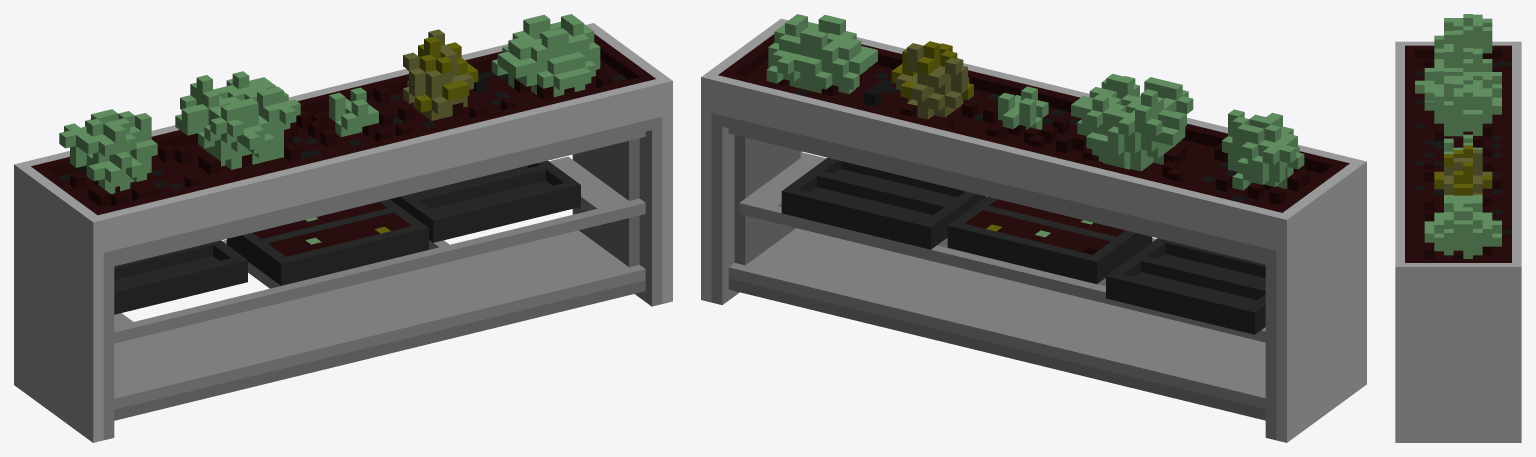
The model's file is Green House Table ver 5.obj.
The picture shows the model from 3 angles, left to right: view 1: azimuth 30°, elevation 25°; view 2: azimuth 150°, elevation 25°; view 3: azimuth 270°, elevation 25°; orthographic projection. The views are drawn at different scales.
Bounding box in the file's own units: 55 × 26 × 13.
Materials: 1 (1 with a texture image).
